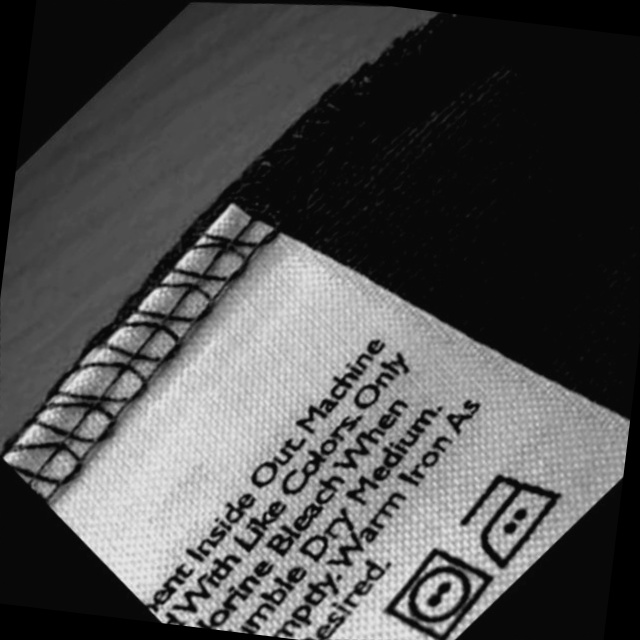iron_medium: (451, 461, 579, 579)
tumble_dry_medium: (376, 537, 507, 640)
